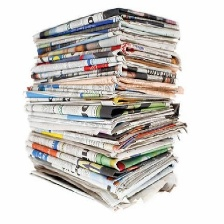news_paper: (22, 6, 193, 210)
